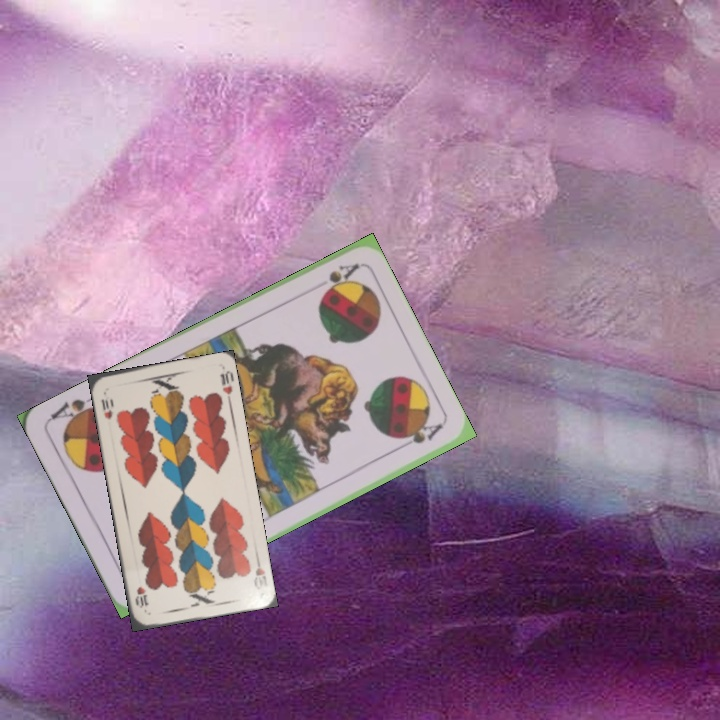H10: (250, 552, 270, 592), (97, 395, 115, 422)
SA: (318, 260, 361, 296)
